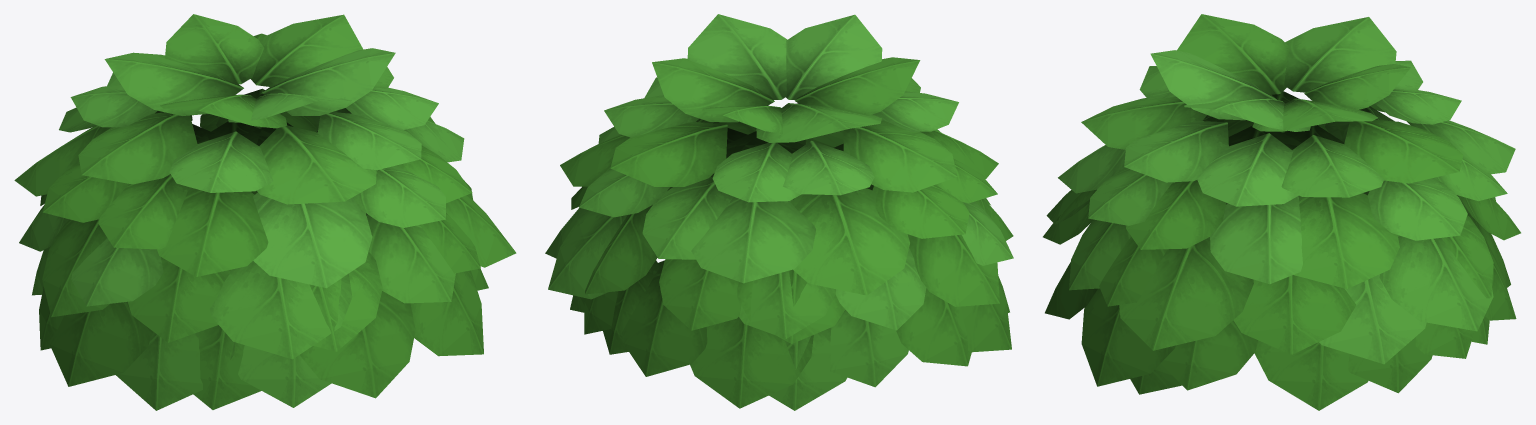
The picture shows the model from 3 angles, left to right: view 1: azimuth 30°, elevation 25°; view 2: azimuth 150°, elevation 25°; view 3: azimuth 270°, elevation 25°; orthographic projection. The views are drawn at different scales.
Parts seen in each view (by area): view 1: grid_5_leaves_LOD0; view 2: grid_5_leaves_LOD0; view 3: grid_5_leaves_LOD0.
Boxes of the visible parts, x1,y1,x2,y2 form: grid_5_leaves_LOD0: (14, 14, 516, 410); grid_5_leaves_LOD0: (545, 14, 1013, 410); grid_5_leaves_LOD0: (1043, 14, 1520, 410).
Size of what is drawn, in the model's own units: 1.54 by 0.9168 by 1.48.
1 material, 1 textured.
